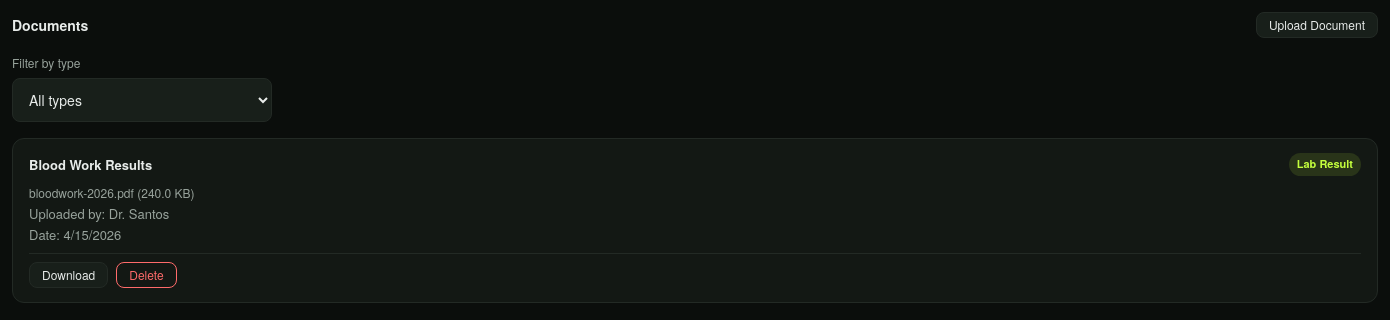
DocumentsPanel › shows no match message when filter excludes all
Expected: the text "Blood Work Results" is shown, left=29, top=154, right=152, bottom=174
Select "Imaging" in the dropdown named "Filter by document type" at {"x": 142, "y": 100}, box left=12, top=78, right=272, bottom=122
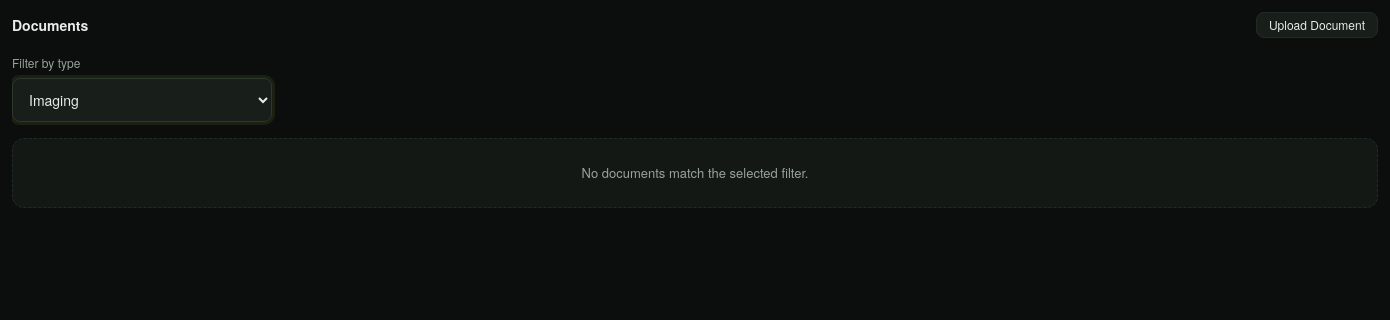
Expected: the text "No documents match the selected filter." is shown, left=12, top=138, right=1378, bottom=208
